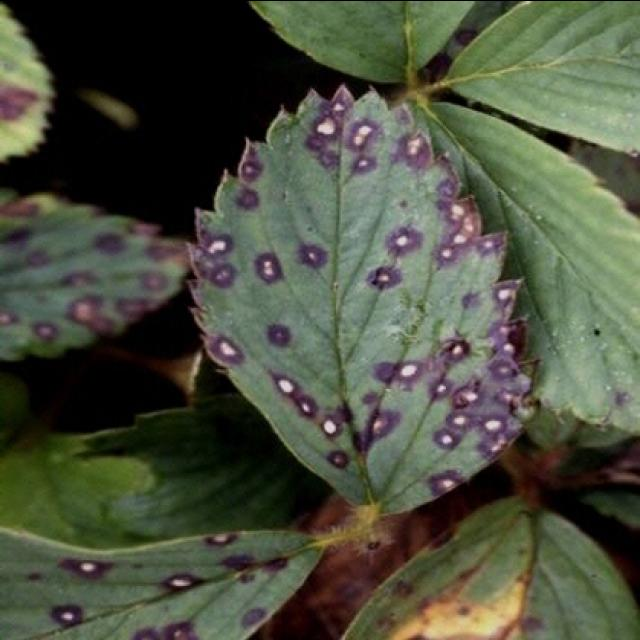Leaf Spot: (184, 81, 543, 519), (411, 99, 638, 435), (341, 494, 638, 640), (0, 524, 329, 640), (0, 186, 192, 365), (0, 2, 55, 165)
